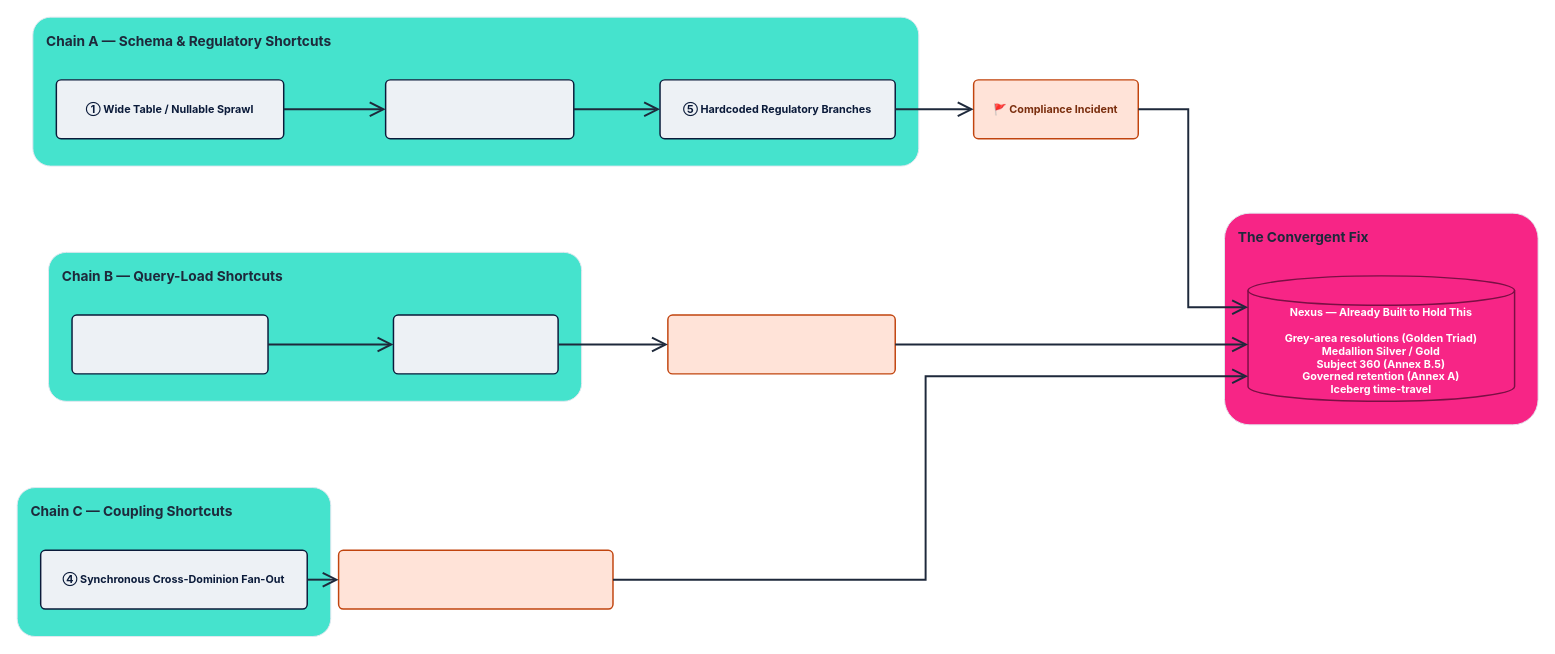
The diagram is 1555 pixels wide and 654 high, and some of its shapes have lost their labels. The shapes that lost their labels are listed below. From the top down, each one's centre as x and y in pixels, then its label:
At pixel 479 109: "② JSON Blob Escape Hatch".
At pixel 169 344: "③ Reporting on Production".
At pixel 475 344: "⑥ Read-Replica Sprawl".
At pixel 781 344: "🚩 Outage + Inconsistent Counts".
At pixel 475 579: "🚩 Cascading Failures as Dominions Grow".
